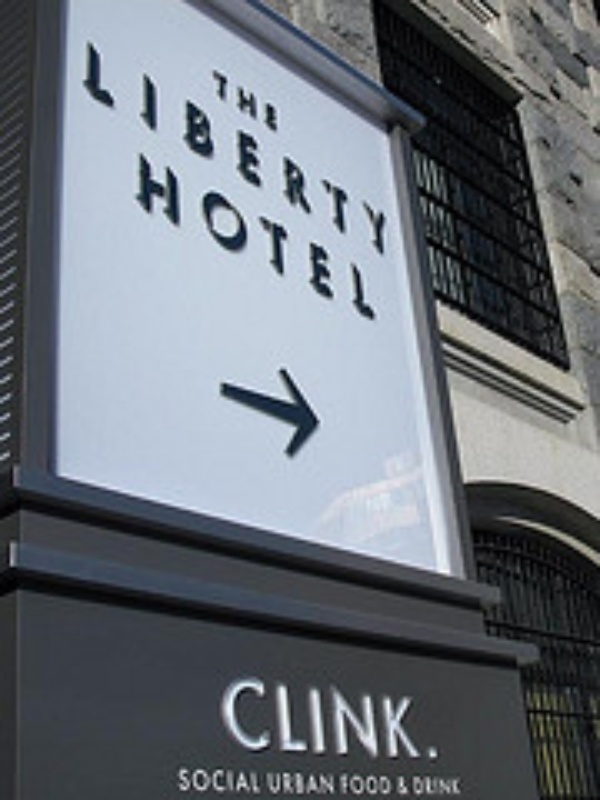text: (81, 34, 96, 261), (97, 34, 112, 261), (113, 34, 128, 261), (129, 34, 144, 261), (145, 34, 160, 261), (161, 34, 176, 261), (177, 34, 192, 261), (193, 34, 208, 261), (209, 34, 224, 261), (225, 34, 240, 261), (241, 34, 256, 261), (257, 34, 272, 261), (273, 34, 288, 261), (289, 34, 304, 261), (305, 34, 320, 261), (321, 34, 336, 261), (337, 34, 352, 261), (353, 34, 368, 261), (369, 34, 384, 261), (145, 154, 160, 324), (161, 154, 176, 324), (177, 154, 192, 324), (193, 154, 208, 324), (209, 154, 224, 324), (225, 154, 240, 324), (241, 154, 256, 324), (257, 154, 272, 324), (273, 154, 288, 324), (289, 154, 304, 324), (305, 154, 320, 324), (321, 154, 336, 324), (337, 154, 352, 324), (353, 154, 368, 324), (385, 34, 391, 261), (369, 154, 377, 324), (225, 674, 240, 761), (241, 674, 256, 761), (257, 674, 272, 761), (273, 674, 288, 761), (289, 674, 304, 761), (305, 674, 320, 761), (321, 674, 336, 761), (337, 674, 352, 761), (353, 674, 368, 761), (369, 674, 384, 761), (385, 674, 400, 761), (401, 674, 416, 761), (417, 674, 432, 761), (225, 67, 240, 134), (241, 67, 256, 134), (257, 67, 272, 134), (211, 67, 224, 134), (273, 67, 284, 134), (433, 674, 440, 761), (321, 771, 337, 797), (177, 767, 192, 794), (193, 767, 208, 794), (209, 767, 224, 794), (225, 767, 240, 794), (241, 767, 256, 794), (273, 771, 288, 797), (289, 771, 304, 797), (305, 771, 320, 797), (337, 771, 352, 797), (353, 771, 368, 797), (369, 771, 384, 797), (401, 774, 416, 797), (417, 774, 432, 797), (433, 774, 448, 797), (449, 774, 464, 797), (257, 767, 267, 794), (385, 771, 394, 797), (264, 771, 272, 797), (397, 774, 400, 797), (465, 774, 467, 797)
